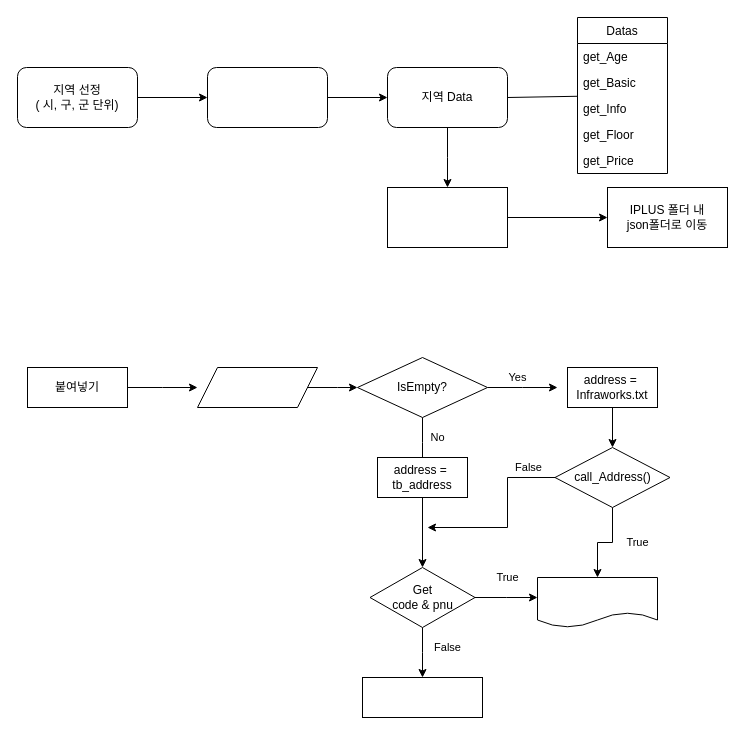
The diagram is 745 pixels wide and 735 high, and some of its shapes have lost their labels. Each missing label, with the box of its shape:
json 파일 통합 (Age, Basic, Info, Floor, Price): (386, 186, 508, 248)
건축물 정보 출력: (536, 576, 658, 628)
도로명 주소: (196, 366, 318, 408)
사이트 에러: (362, 676, 482, 718)
선정한 지역 Modeling & 지역 Data 수집: (206, 66, 328, 128)
